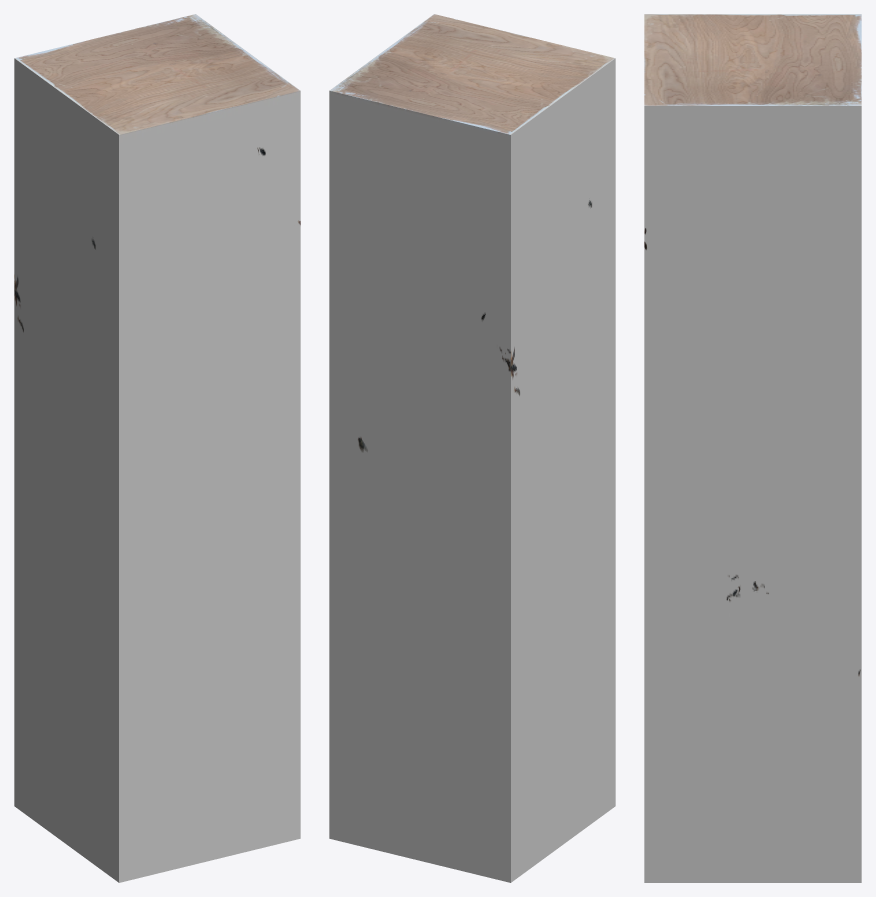
The model's file is katiewarford.glb.
The picture shows the model from 3 angles, left to right: view 1: azimuth 30°, elevation 25°; view 2: azimuth 150°, elevation 25°; view 3: azimuth 270°, elevation 25°; orthographic projection. The views are drawn at different scales.
Parts seen in each view (by area): view 1: Cube; view 2: Cube; view 3: Cube.
Part boxes in pixels (bbox=[...]): Cube: bbox=[14, 14, 300, 882]; Cube: bbox=[329, 14, 615, 882]; Cube: bbox=[644, 14, 861, 882].
Size of the model in its own units: 1.4 by 5.5 by 1.4.
Materials: 1 (1 with a texture image).
